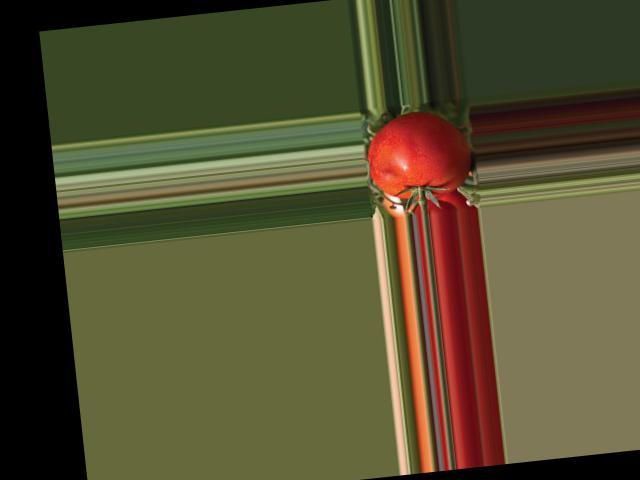tomato: (363, 107, 473, 204)
